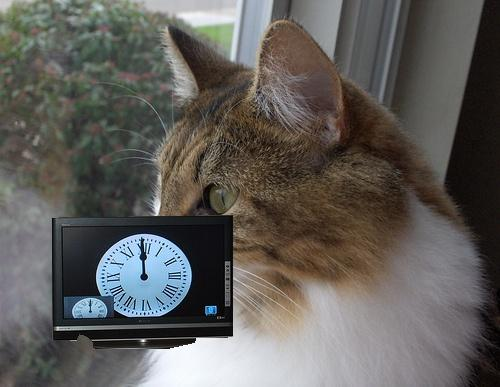tampered: (53, 216, 233, 349)
